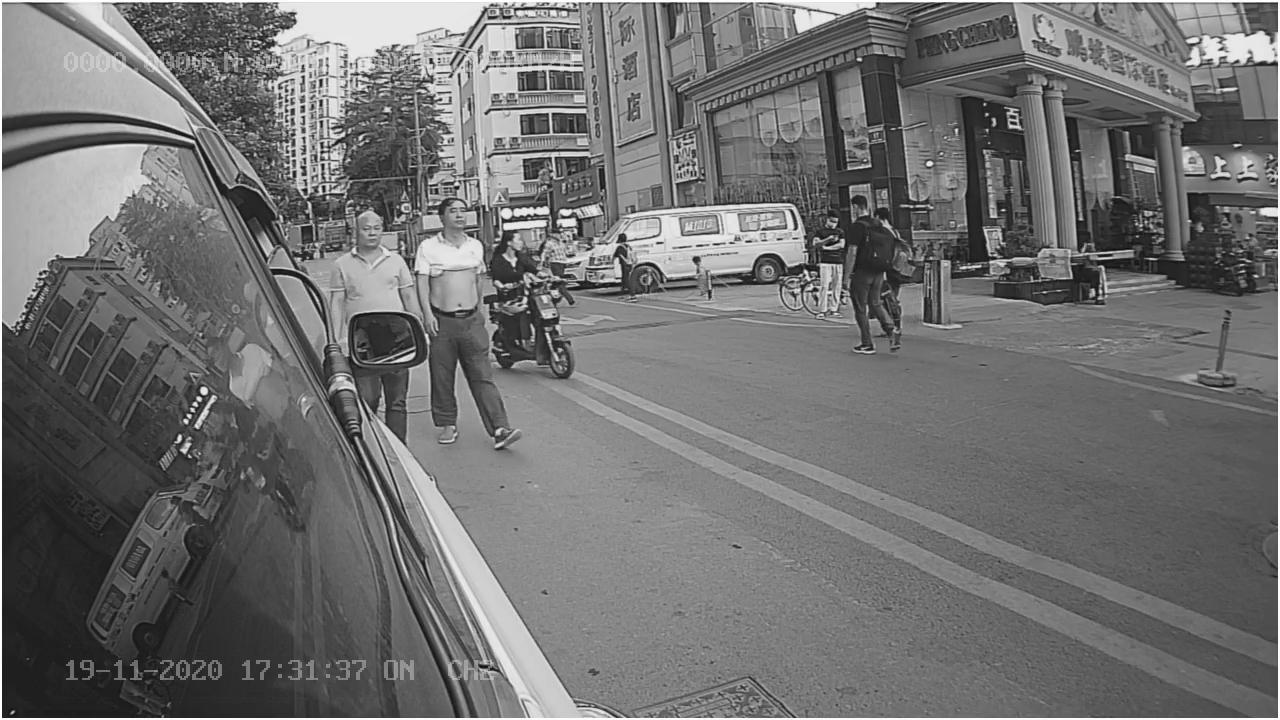person: (415, 194, 491, 317)
